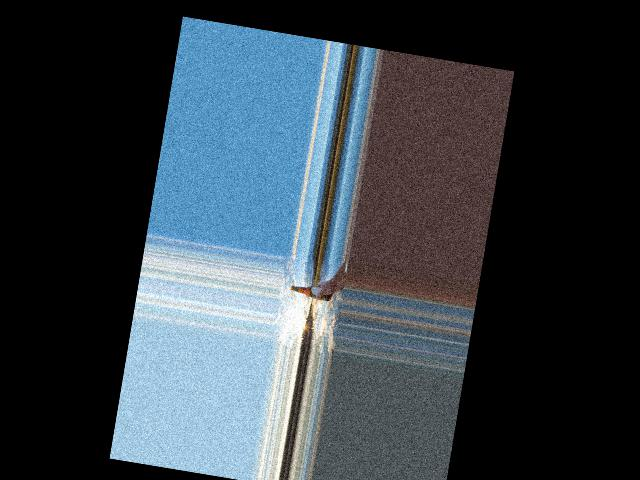beer: (289, 282, 330, 302)
